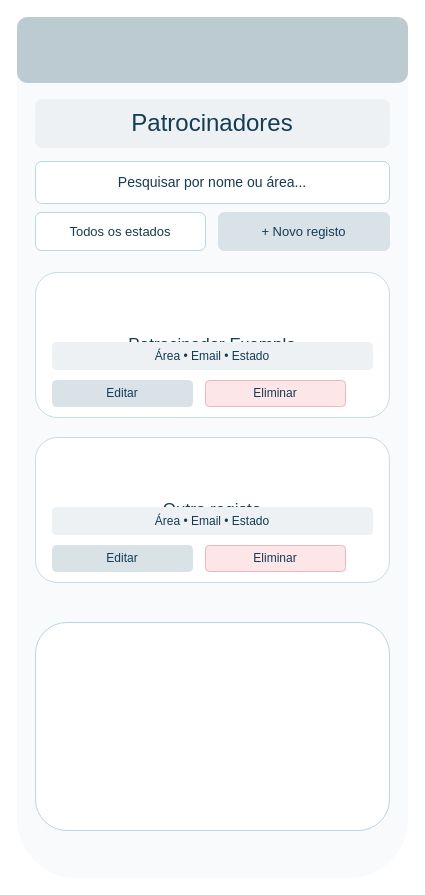
Image size: 425x895. Some labels were removed from this diagram. The box of each missing label's shape, as (x1, y1, x2, y2) in pixels:
Animalec+ | Administração: (16, 16, 408, 82)
Formulário: Nome · Área · Contacto · Estado · Guardar: (34, 622, 390, 830)
